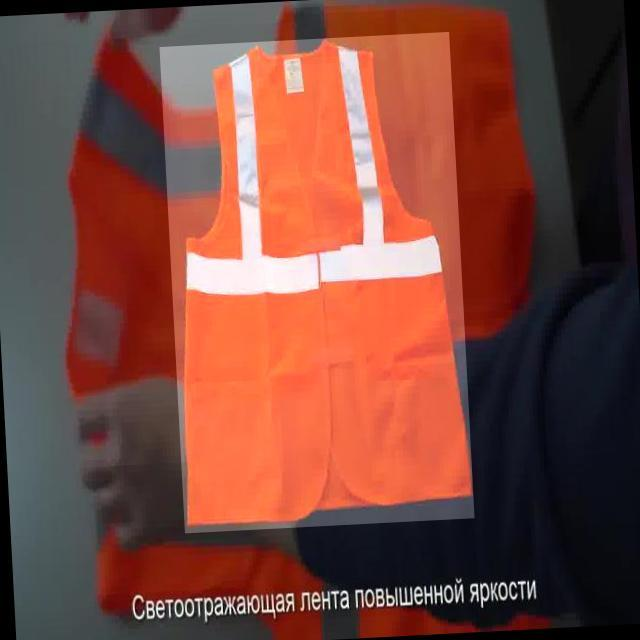Safety Vest: (160, 32, 475, 534)
bare-arms: (72, 373, 203, 560)
